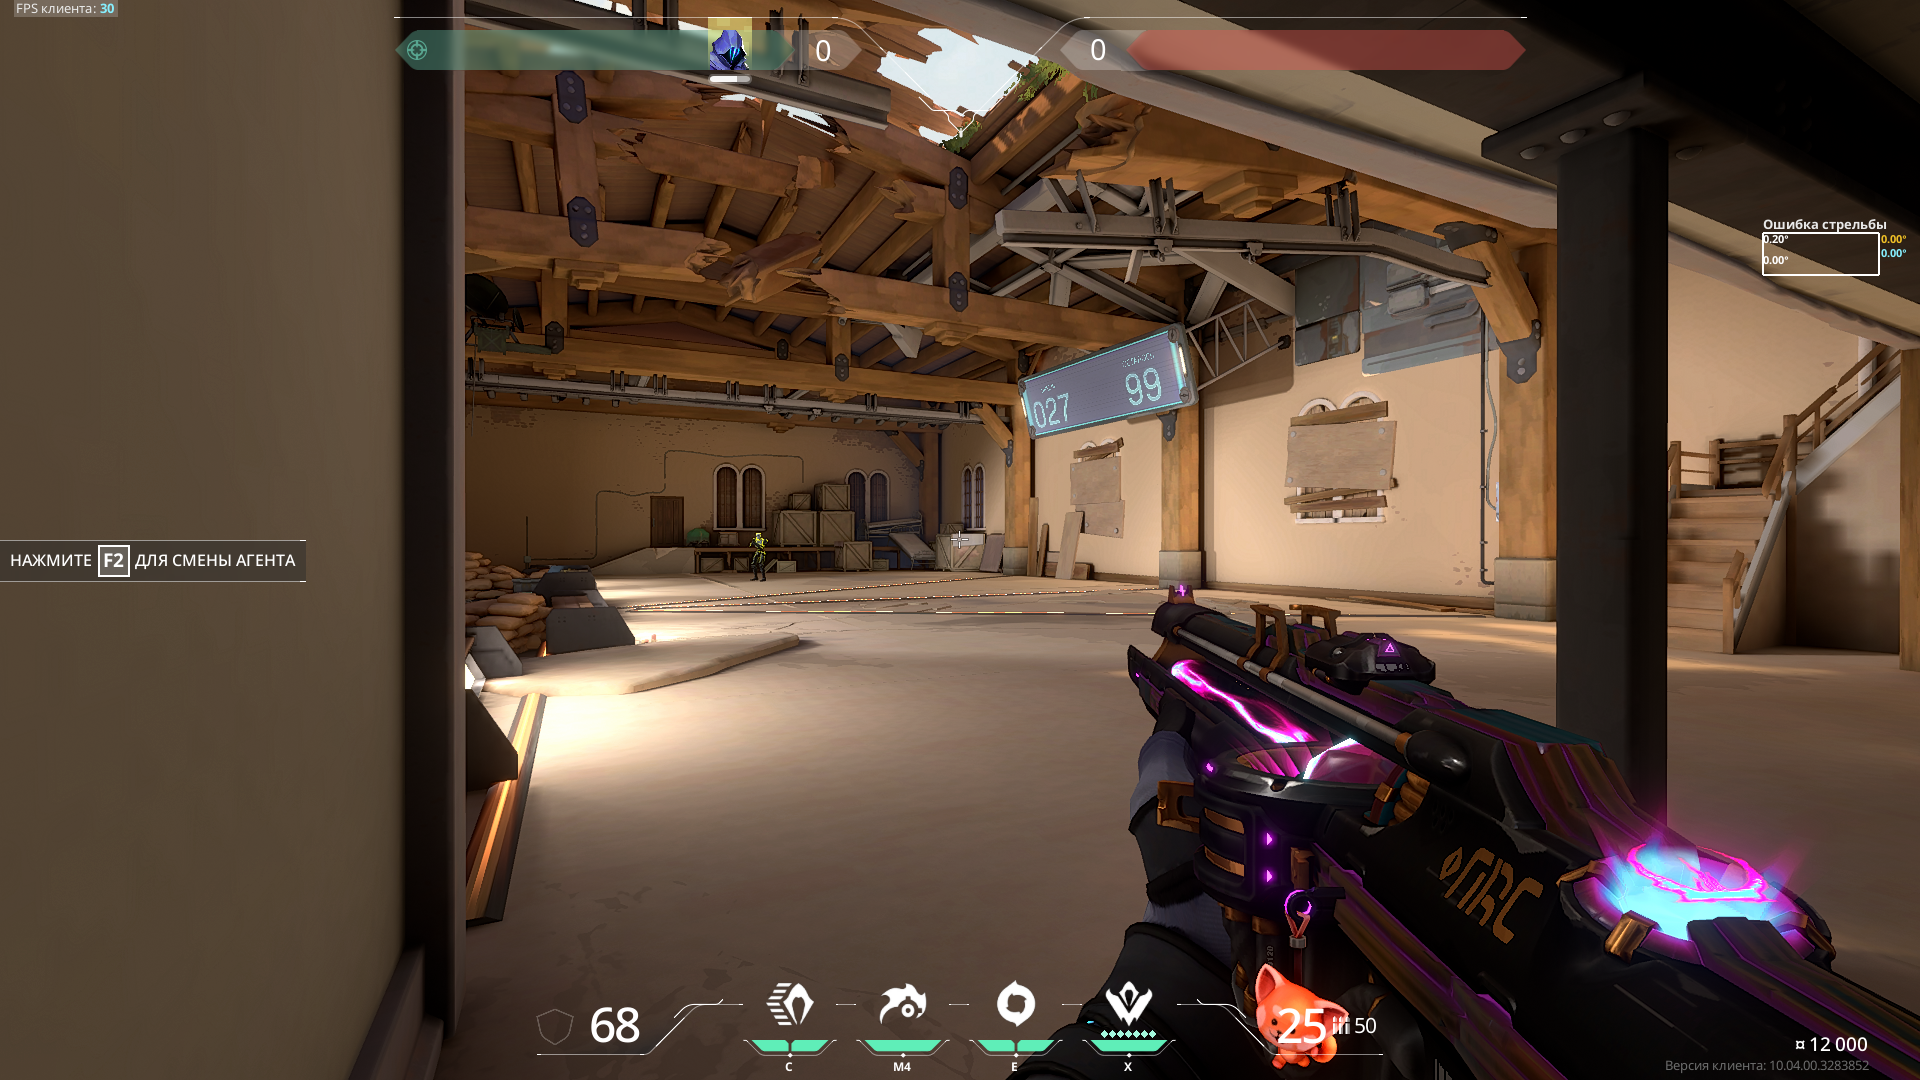head: (756, 533, 761, 539)
